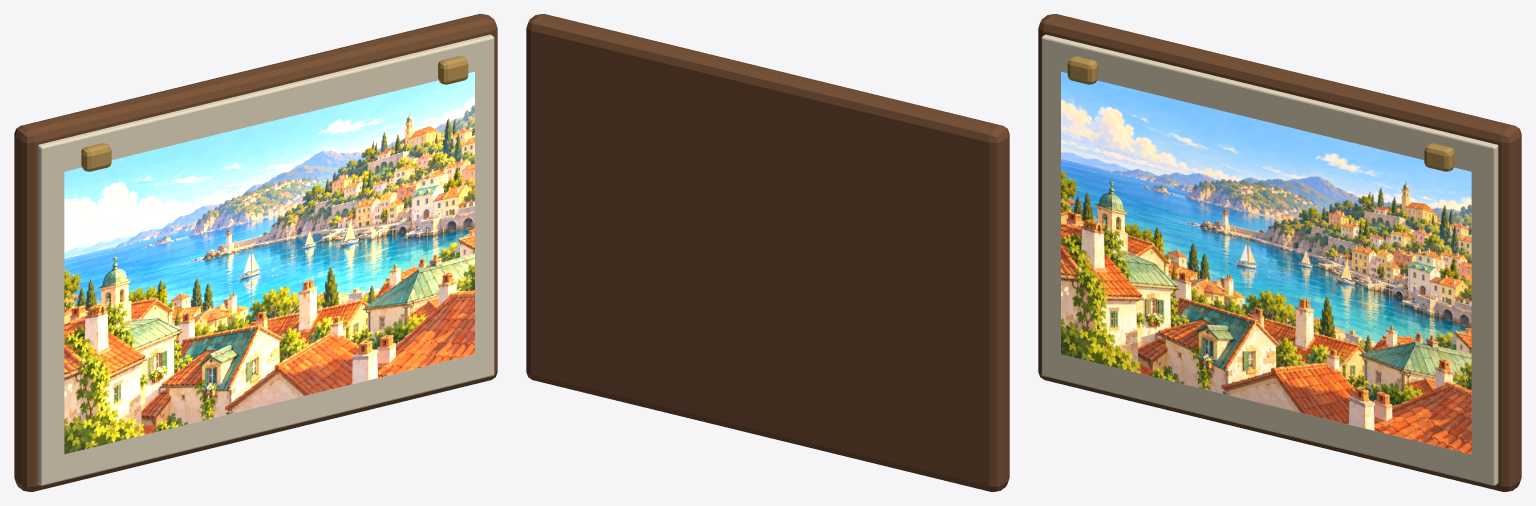
3 renders of one model, left to right at view 1: azimuth 30°, elevation 25°; view 2: azimuth 150°, elevation 25°; view 3: azimuth 330°, elevation 25°, orthographic.
Visible parts, largest first — view 1: loft_harbour, loft_paper, loft_wood_dark, loft_brass; view 2: loft_wood_dark; view 3: loft_harbour, loft_paper, loft_wood_dark, loft_brass.
Part boxes in pixels (x1,y1,x2,y2): loft_harbour: (64,71,474,454); loft_paper: (37,34,494,485); loft_wood_dark: (14,14,497,491); loft_brass: (81,56,468,171); loft_wood_dark: (526,14,1009,491); loft_harbour: (1061,71,1471,454); loft_paper: (1041,34,1498,485); loft_wood_dark: (1038,14,1521,491); loft_brass: (1067,56,1454,171).
Bounding box in the file's own units: 0.88 × 0.64 × 0.0975.
Materials: 4 (1 with a texture image).
